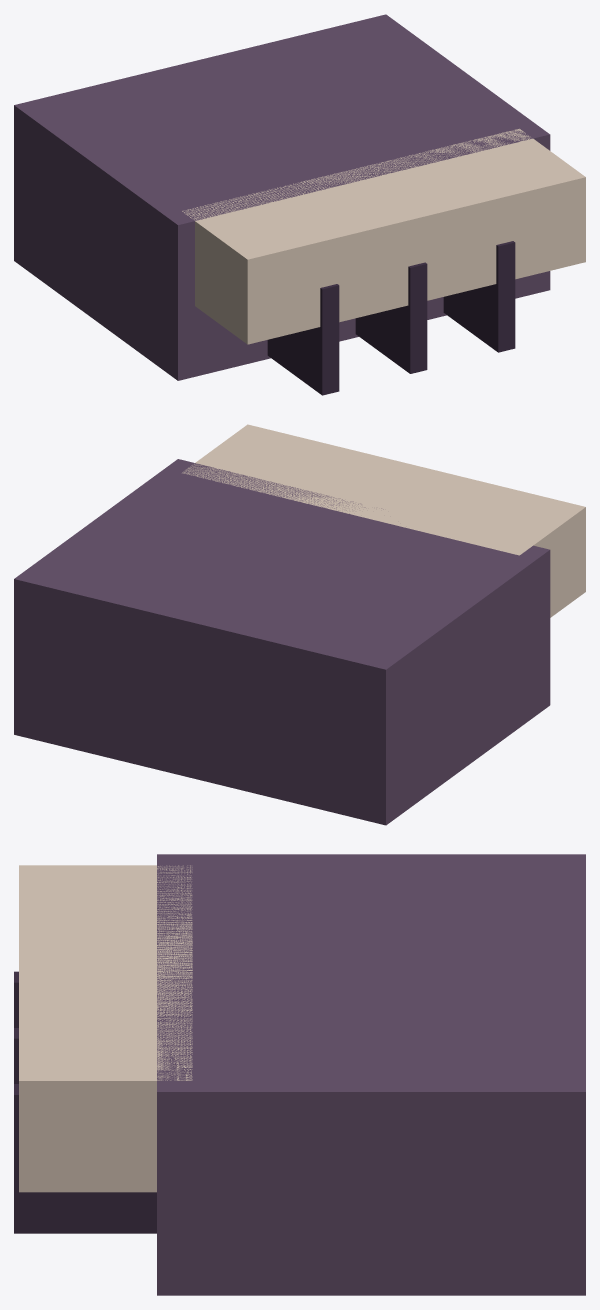
File: inf_warden_hand_r.fbx
3 views of the same model, one above another, from view 1: azimuth 30°, elevation 25°; view 2: azimuth 150°, elevation 25°; view 3: azimuth 270°, elevation 25° (orthographic). The views are drawn at different scales.
Visible parts, largest first — view 1: inf_warden_hand_r; view 2: inf_warden_hand_r; view 3: inf_warden_hand_r.
Boxes of the visible parts, bbox=[...] form: inf_warden_hand_r: bbox=[14, 14, 585, 395]; inf_warden_hand_r: bbox=[14, 424, 585, 825]; inf_warden_hand_r: bbox=[14, 854, 585, 1295].
Size of the model in its own units: 110 by 44 by 112.
